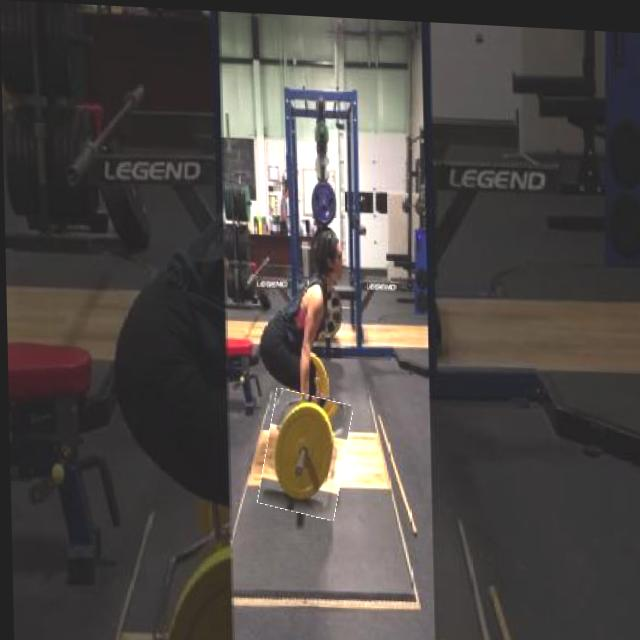barbell: (259, 389, 349, 516)
